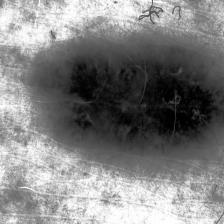Benign Marking or Mole: (32, 35, 224, 161)
